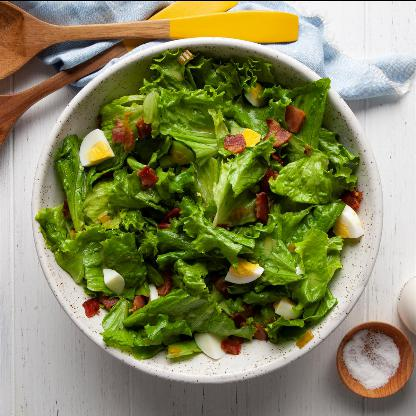salad: (40, 49, 358, 358)
